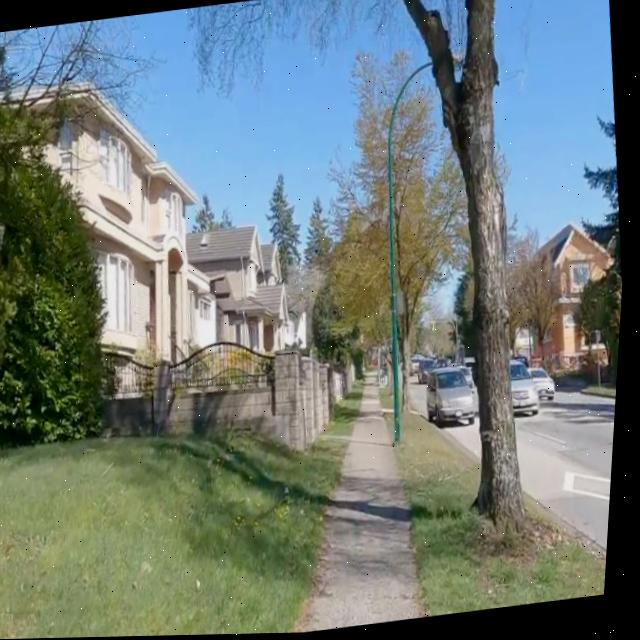Automobile: (430, 368, 482, 424), (514, 362, 543, 417), (534, 369, 558, 403), (423, 362, 439, 385)
Road: (522, 393, 621, 551), (521, 395, 621, 551), (445, 423, 484, 465), (414, 385, 431, 418)
Sidewalk: (305, 383, 430, 634)
